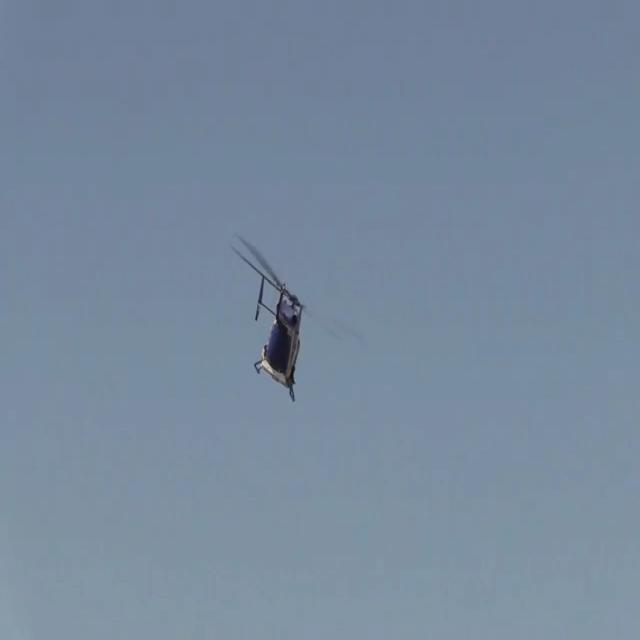Helicopter: (215, 227, 382, 412)
